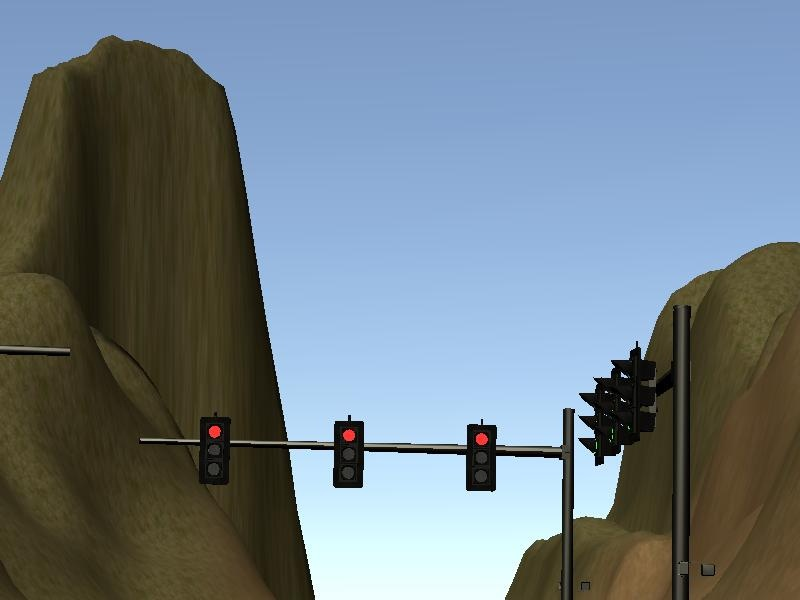red: (326, 411, 370, 493), (458, 417, 502, 495), (195, 409, 235, 486)
